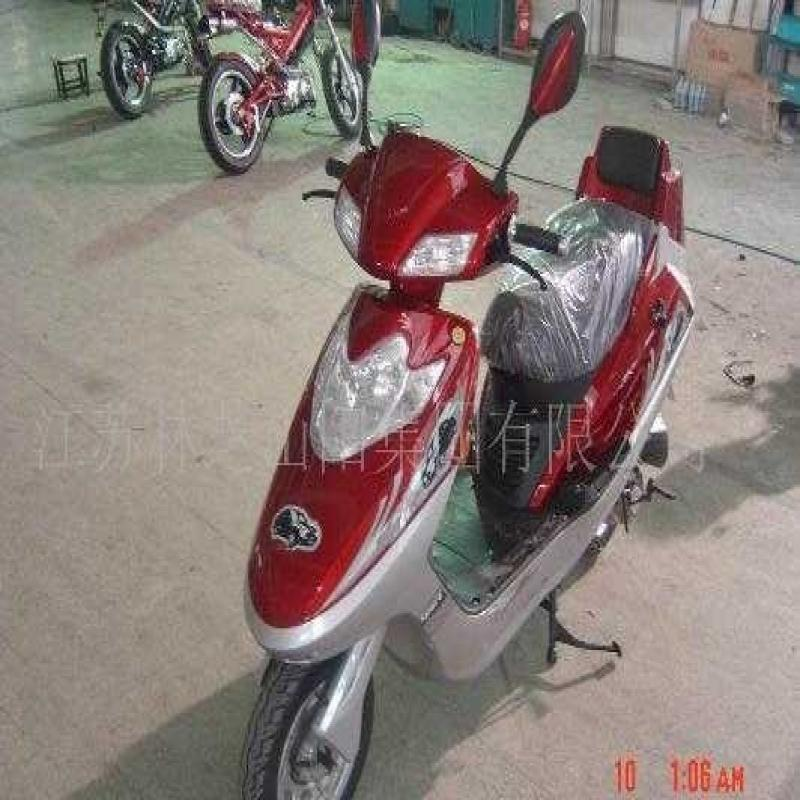bike: (254, 22, 694, 800)
